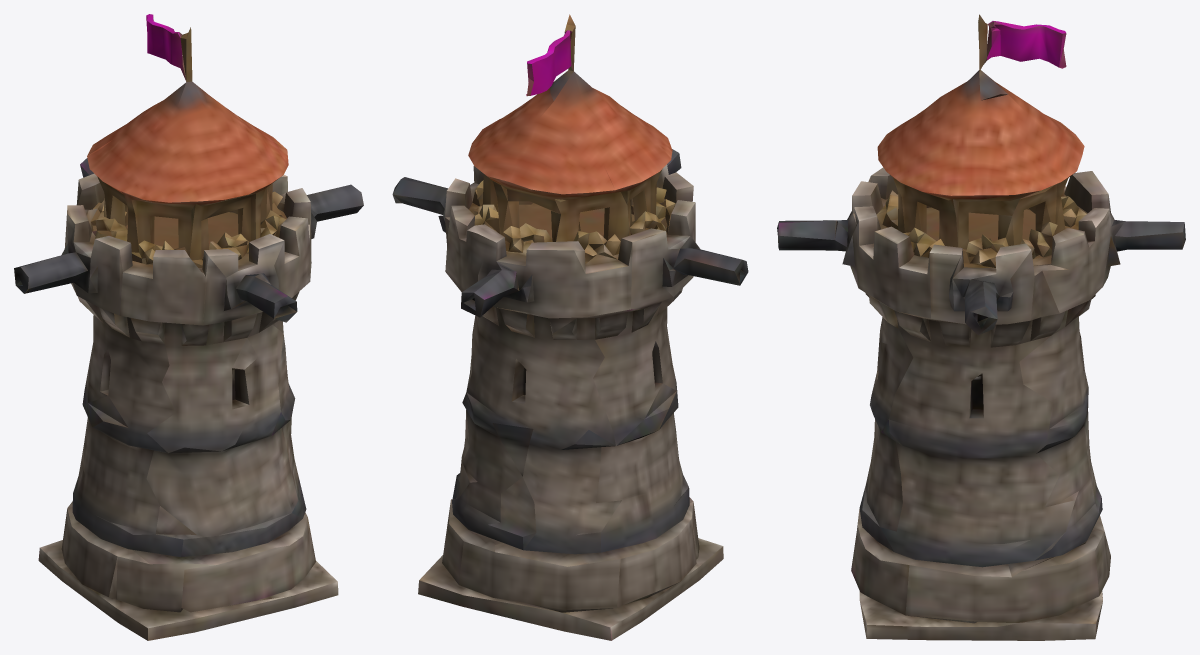
Rendered from tower3.lod2.glb.
3 renders of one model, left to right at view 1: azimuth 30°, elevation 25°; view 2: azimuth 150°, elevation 25°; view 3: azimuth 270°, elevation 25°, orthographic. The views are drawn at different scales.
Parts seen in each view (by area): view 1: tower3.lod2_uv; view 2: tower3.lod2_uv; view 3: tower3.lod2_uv.
Boxes of the visible parts, x1,y1,x2,y2 form: tower3.lod2_uv: (14,14,363,640); tower3.lod2_uv: (392,14,748,640); tower3.lod2_uv: (777,14,1185,640).
Bounding box in the file's own units: 1.22 × 1.9 × 1.22.
Materials: 1 (1 with a texture image).
